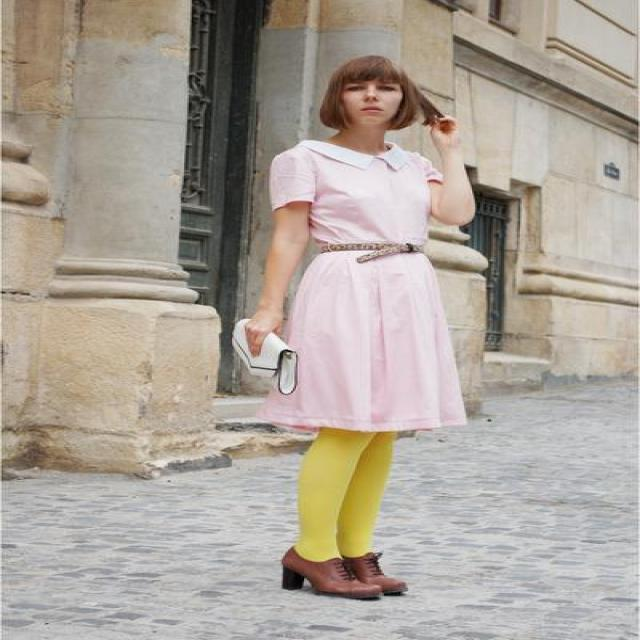bag: (233, 328, 306, 392)
dress: (268, 141, 466, 439)
shoe: (282, 546, 406, 600)
